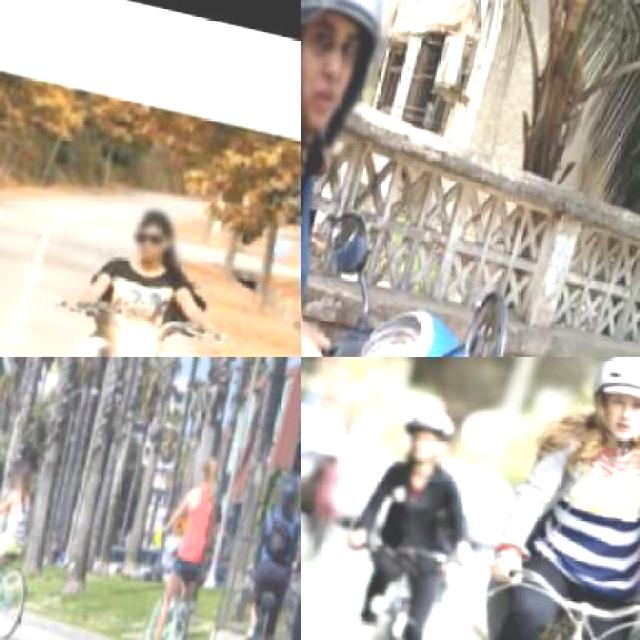With Helmet: (300, 0, 412, 166), (577, 357, 638, 448), (396, 398, 466, 464), (280, 455, 298, 511)
Without Helmet: (124, 188, 198, 261), (199, 434, 230, 484), (13, 453, 42, 495)
